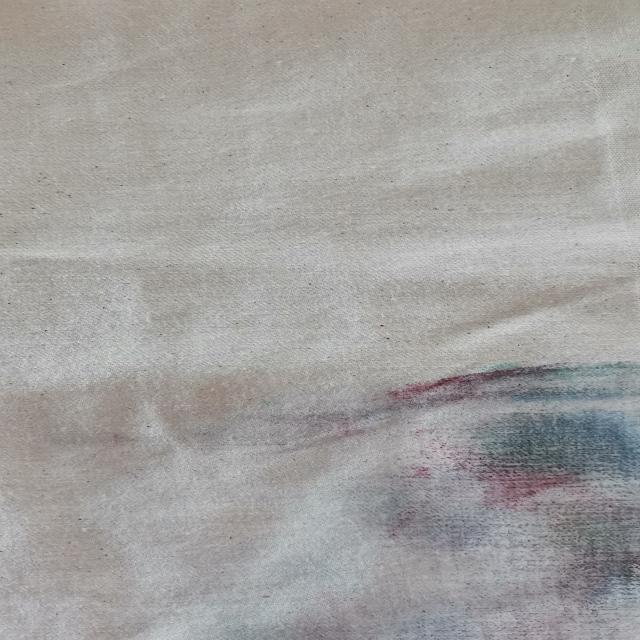taaaches: (208, 357, 640, 640)
